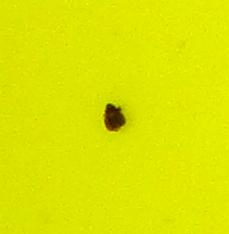Coleoptera: (100, 100, 129, 134)
